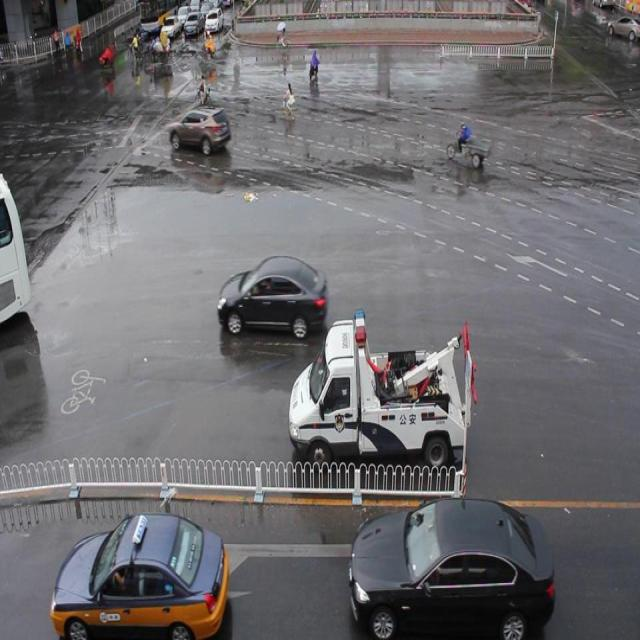bus: (288, 308, 475, 473)
car: (348, 493, 553, 640), (51, 508, 230, 640), (217, 254, 326, 340), (168, 105, 230, 156)
van: (1, 171, 31, 327)
